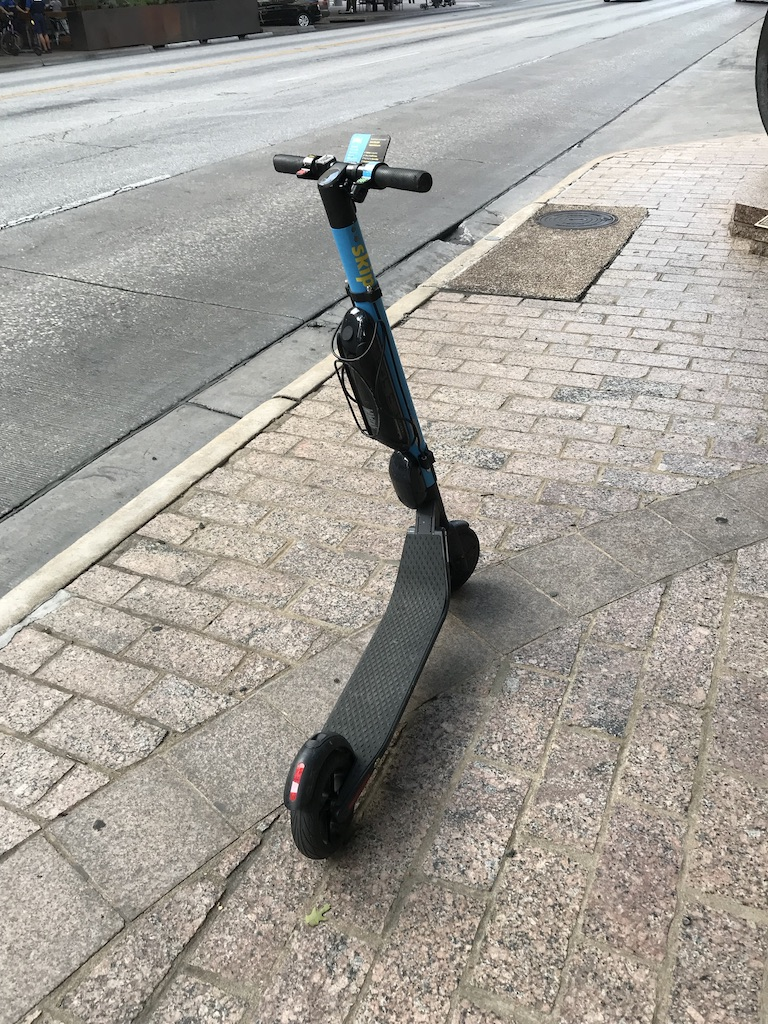scooter: (272, 133, 482, 857)
